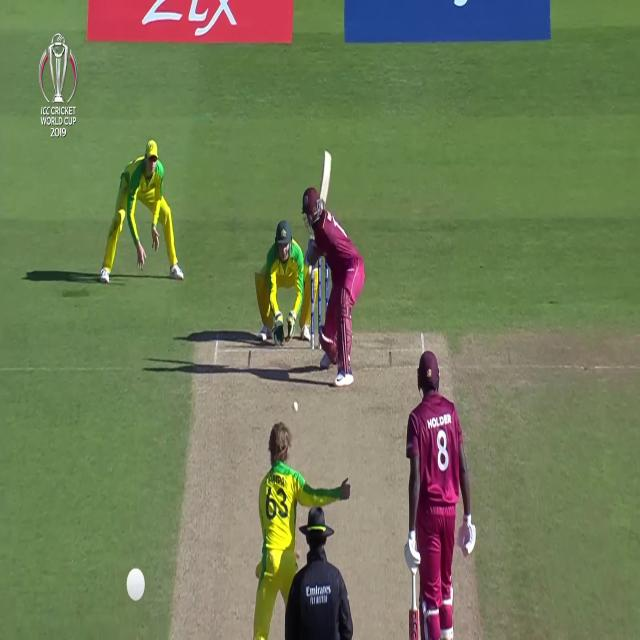ball: (291, 398, 301, 417)
